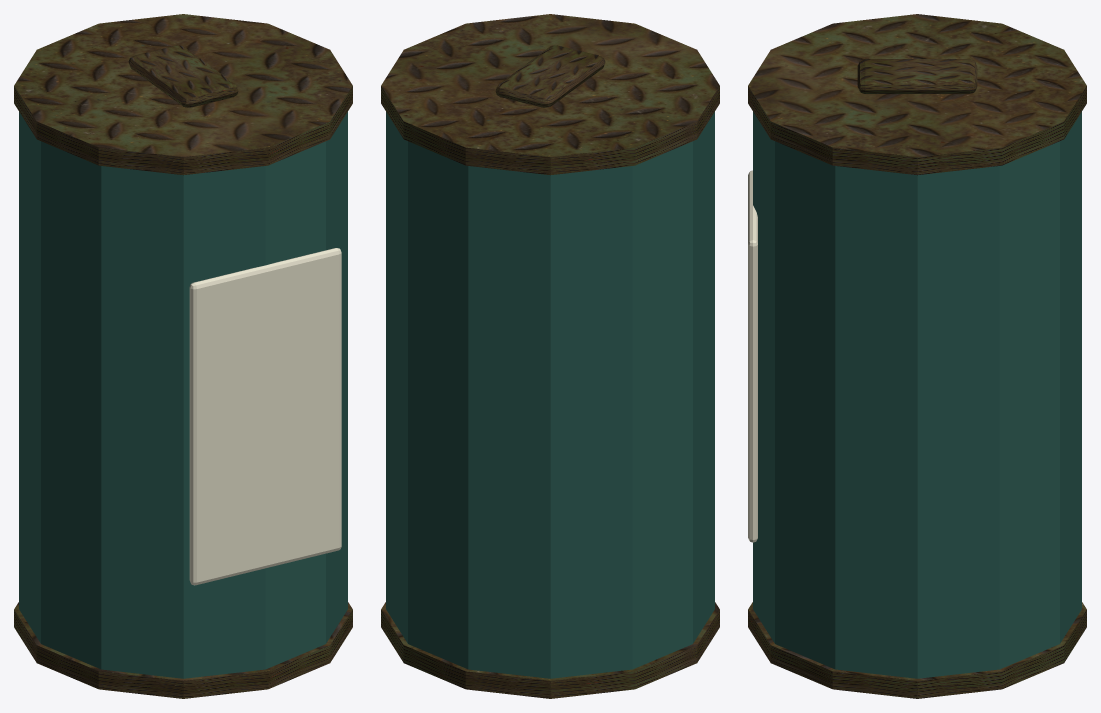
File: drink.glb
3 views of the same model, side by side, from view 1: azimuth 30°, elevation 25°; view 2: azimuth 150°, elevation 25°; view 3: azimuth 270°, elevation 25° (orthographic).
Parts seen in each view (by area): view 1: Can.002, Rim.002, Cream label.002; view 2: Can.002, Rim.002; view 3: Can.002, Rim.002, Cream label.002.
Part boxes in pixels (x1,y1,x2,y2): Can.002: (19,112,347,678); Rim.002: (14,14,352,698); Cream label.002: (189,248,341,585); Can.002: (386,112,714,678); Rim.002: (381,14,719,698); Can.002: (753,112,1081,678); Rim.002: (748,14,1086,698); Cream label.002: (748,170,757,542).
Size of the model in its own units: 0.068 by 0.1235 by 0.068.
Materials: 3 (1 with a texture image).
